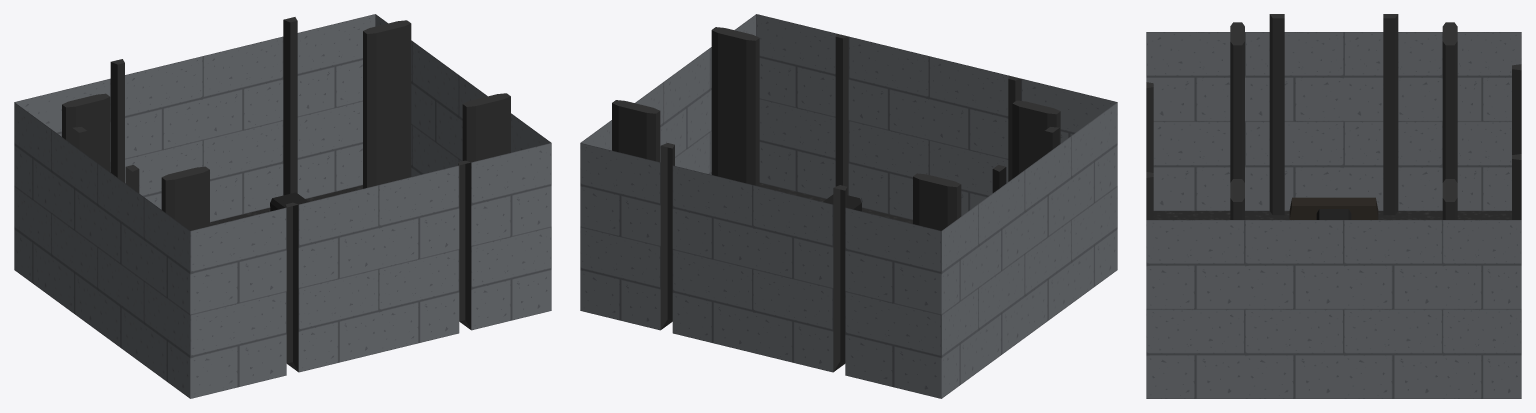
File: SW_ENV_Elevator_Shaft_Base_FF.fbx
3 views of the same model, side by side, from view 1: azimuth 30°, elevation 25°; view 2: azimuth 150°, elevation 25°; view 3: azimuth 270°, elevation 25° (orthographic). The views are drawn at different scales.
Visible parts, largest first — view 1: SW_ENV_Elevator_Shaft_Base_FF; view 2: SW_ENV_Elevator_Shaft_Base_FF; view 3: SW_ENV_Elevator_Shaft_Base_FF.
Boxes of the visible parts, box(x1,y1,x2,y2) form: SW_ENV_Elevator_Shaft_Base_FF: box(14, 14, 551, 398); SW_ENV_Elevator_Shaft_Base_FF: box(580, 14, 1117, 398); SW_ENV_Elevator_Shaft_Base_FF: box(1146, 14, 1521, 398).
Bounding box in the file's own units: 450 × 220 × 380.
